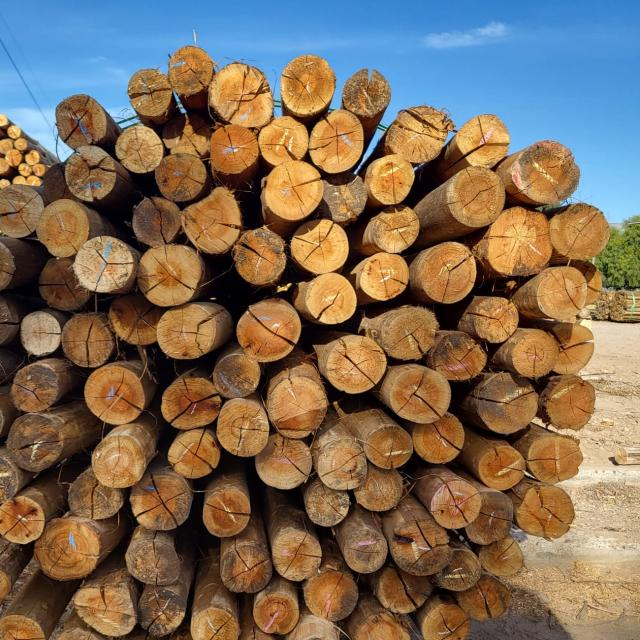package: (1, 42, 614, 640), (0, 91, 38, 386)
